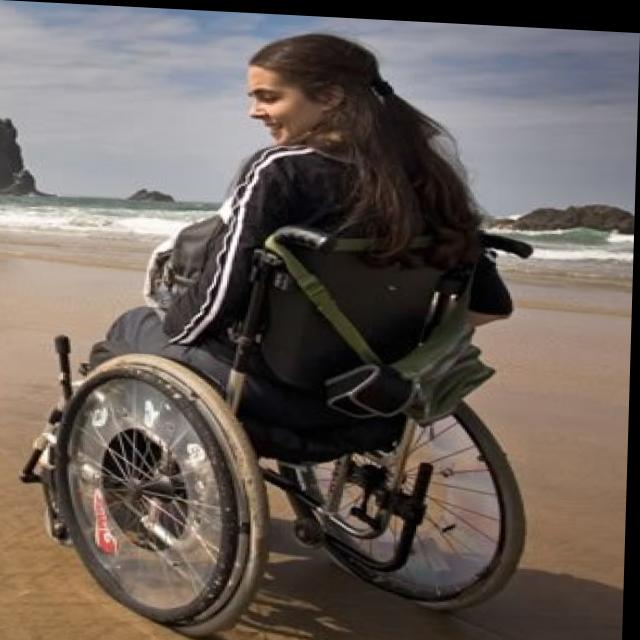wheelchair: (24, 12, 544, 640)
